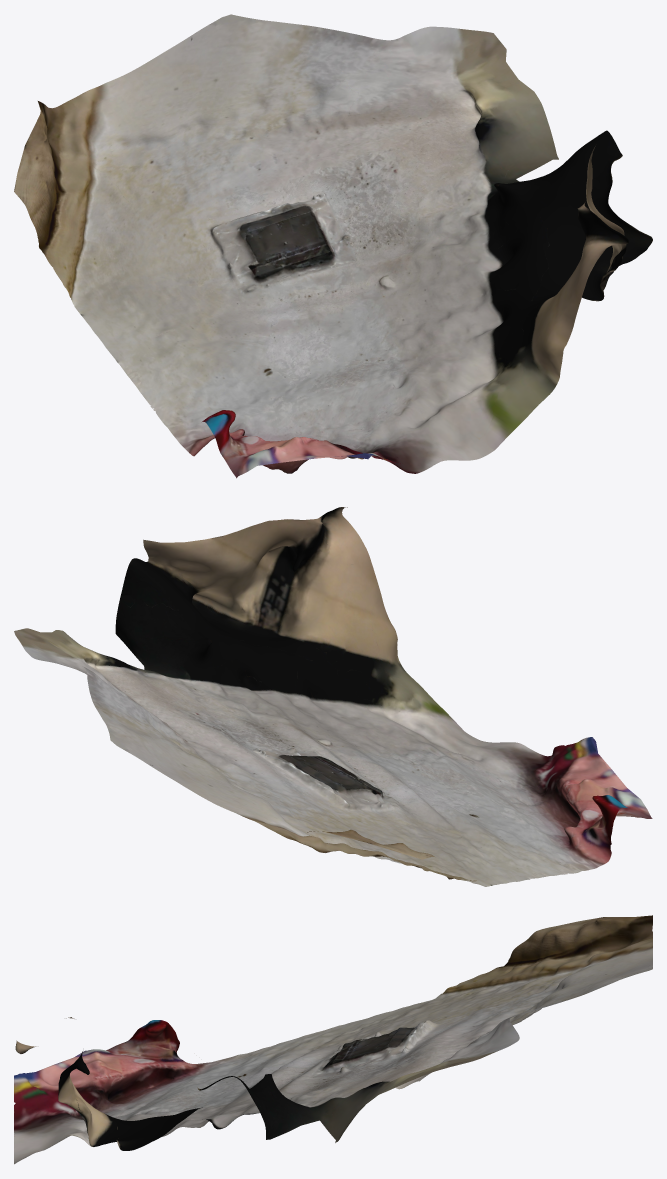
The picture shows the model from 3 angles, top to bottom: view 1: azimuth 30°, elevation 25°; view 2: azimuth 150°, elevation 25°; view 3: azimuth 270°, elevation 25°; orthographic projection. The views are drawn at different scales.
Bounding box in the file's own units: 2.02 × 0.9807 × 2.44.
Materials: 1 (1 with a texture image).
